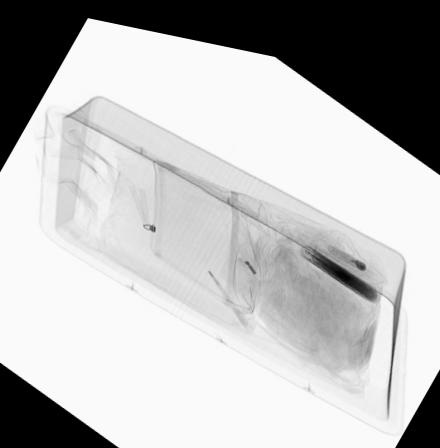Lighter: (325, 229, 366, 259)
